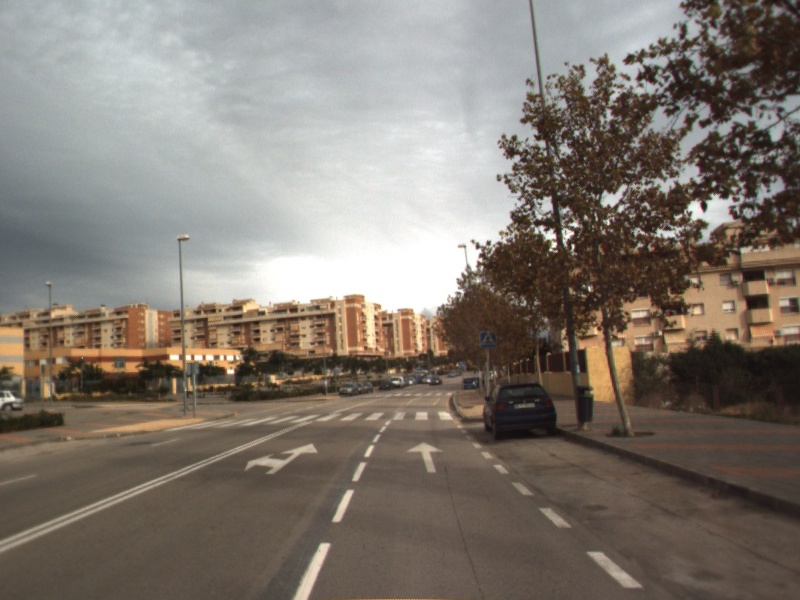STRAIGHT: (404, 440, 446, 475)
STRAIGHT_LEFT: (242, 441, 319, 476)
